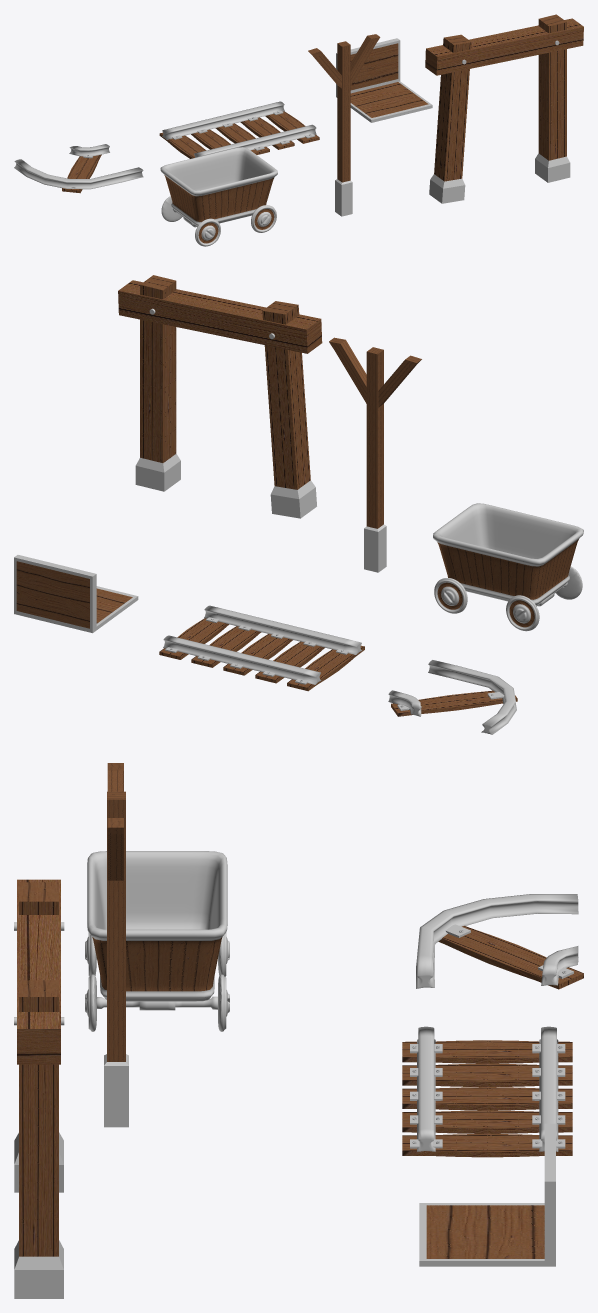
Rendered from Carro.fbx.
3 renders of one model, top to bottom at view 1: azimuth 30°, elevation 25°; view 2: azimuth 150°, elevation 25°; view 3: azimuth 270°, elevation 25°, orthographic. The views are drawn at different scales.
Visible parts, largest first — view 1: Cylinder.001, Cube, Plane.002, Plane, Cube.001, Plane.006, Circle, Circle.001; view 2: Cylinder.001, Cube, Plane.002, Plane, Cube.001, Plane.006, Circle, Circle.001; view 3: Plane.002, Cylinder.001, Cube, Plane, Plane.006, Cube.001, Circle.001, Circle.
Boxes of the visible parts, x1,y1,x2,y2 form: Cylinder.001: (425, 14, 583, 203); Cube: (160, 147, 277, 227); Plane.002: (159, 101, 319, 158); Plane: (336, 38, 432, 122); Cube.001: (308, 34, 380, 216); Plane.006: (14, 144, 143, 193); Circle: (161, 196, 220, 246); Circle.001: (251, 205, 276, 232); Cylinder.001: (118, 275, 322, 518); Cube: (433, 503, 583, 606); Plane.002: (159, 605, 364, 691); Plane: (14, 555, 138, 633); Cube.001: (329, 337, 421, 572); Plane.006: (388, 660, 517, 734); Circle: (506, 566, 582, 631); Circle.001: (434, 578, 467, 613); Plane.002: (402, 1026, 572, 1157); Cylinder.001: (14, 879, 64, 1298); Cube: (87, 851, 227, 1010); Plane: (419, 1123, 555, 1266); Plane.006: (416, 894, 583, 989); Cube.001: (104, 763, 128, 1127); Circle.001: (85, 974, 229, 1031); Circle: (85, 932, 229, 976).
Bounding box in the file's own units: 1387 × 529 × 834.
